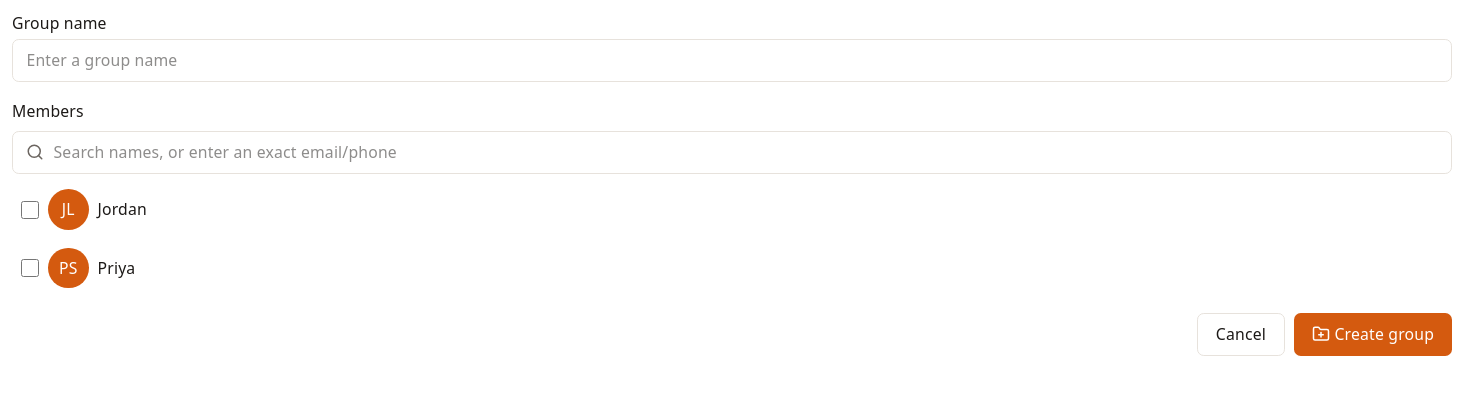
Test: CreateGroupForm › shows a validation error when submitted without a name
The width and height of the screenshot is (1464, 395).
What coordinates should you click on to do the following:
click the button "Create group"
I would click on:
 (1373, 334)
Its box is [1294,313,1452,356].
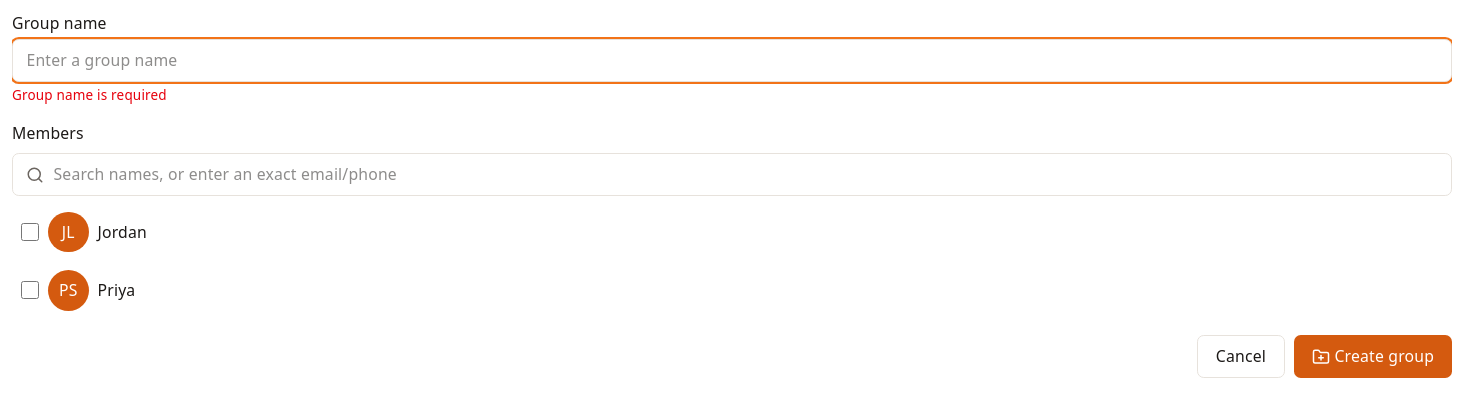
Expected: the text "Group name is required" is shown, [12,86,167,104]
